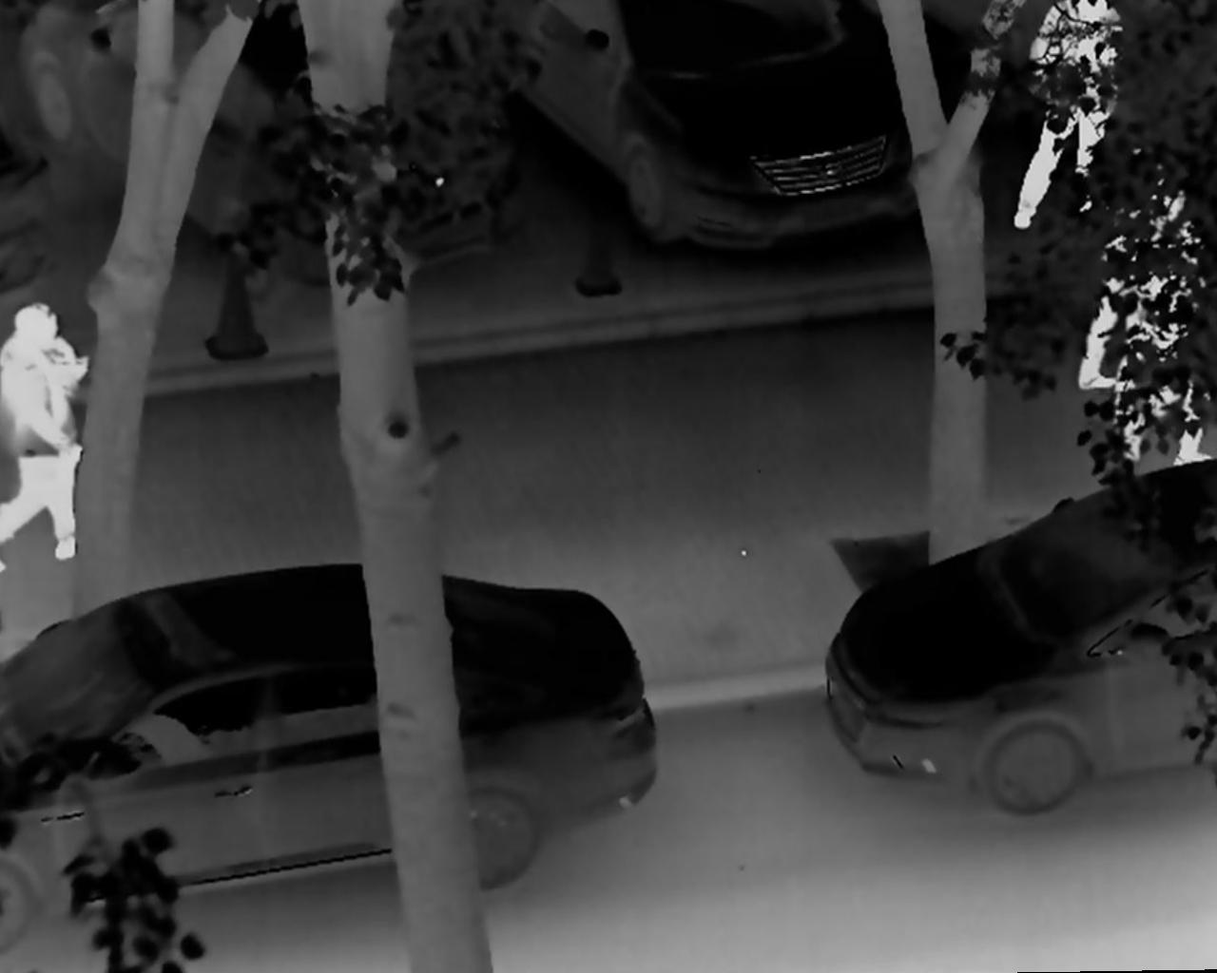person: (1111, 214, 1216, 478), (1105, 179, 1214, 423), (1076, 145, 1166, 392), (14, 302, 90, 531)
